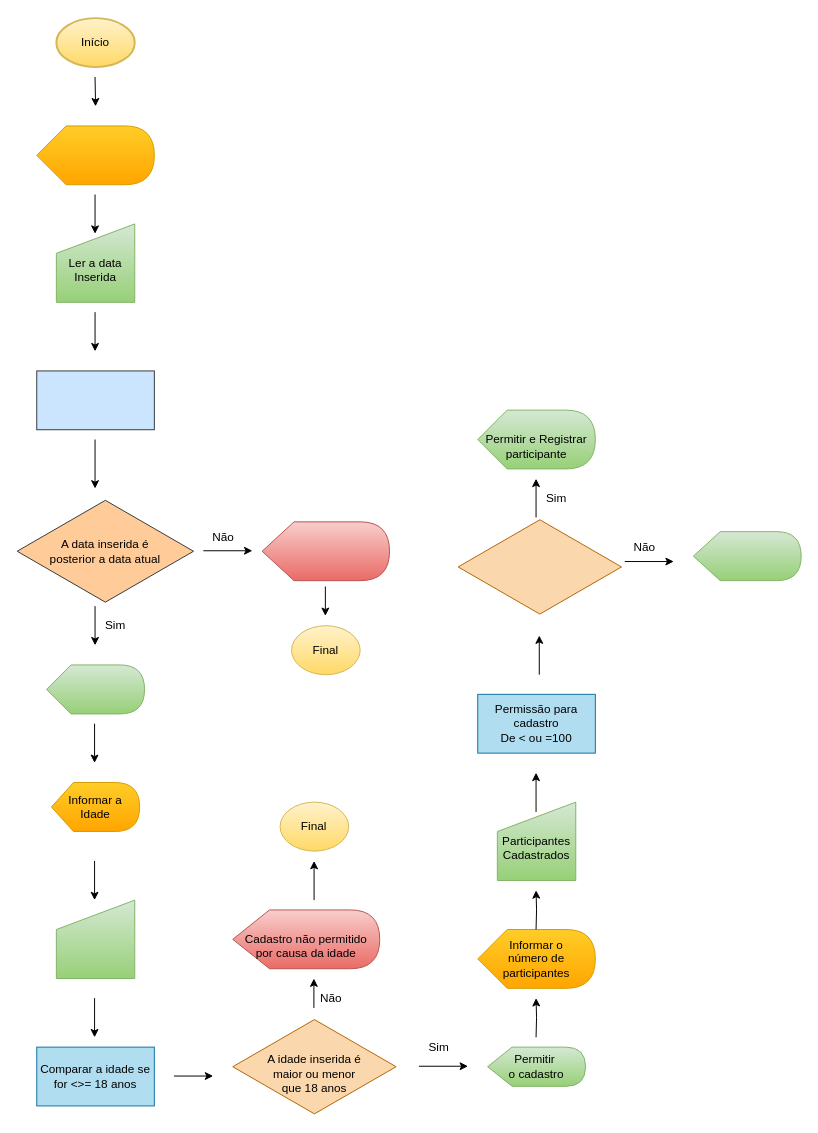
The diagram is 818 pixels wide and 1133 high, and some of its shapes have lost their labels. Each missing label, with the box of its shape:
Cadastro não permitido Por data Invalida: (261, 521, 390, 581)
Comparar a data inserida com a data do evento: (36, 370, 154, 430)
Idade: (55, 899, 135, 979)
Informar a data do Evento: (36, 125, 154, 185)
Participantes inseridos é menor ou igual á 100: (457, 517, 622, 616)
Permitir o Evento: (46, 664, 145, 714)
Quantidade de vagas encerrada: (692, 531, 801, 581)
